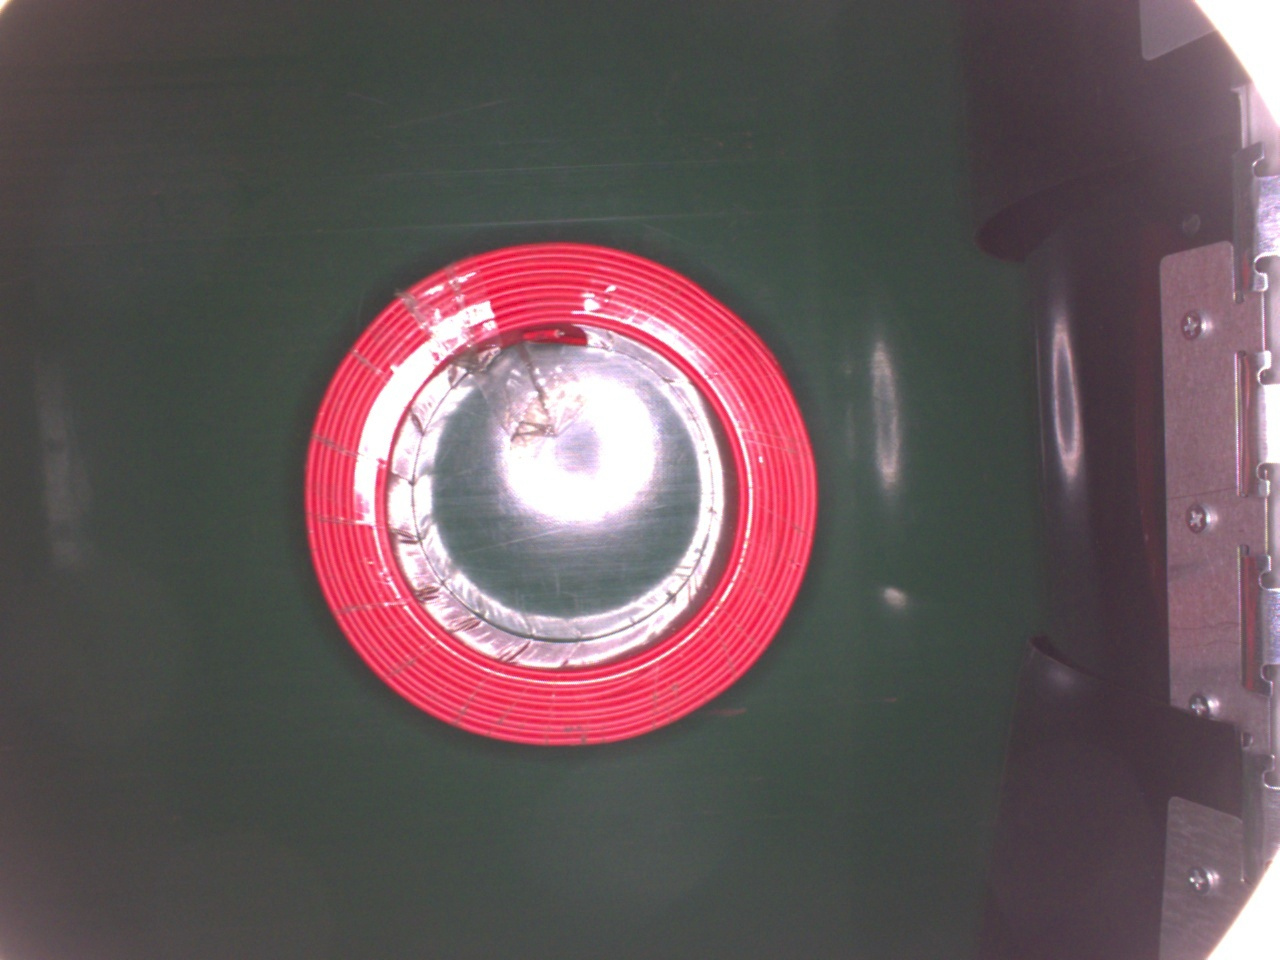red: (304, 237, 815, 748)
